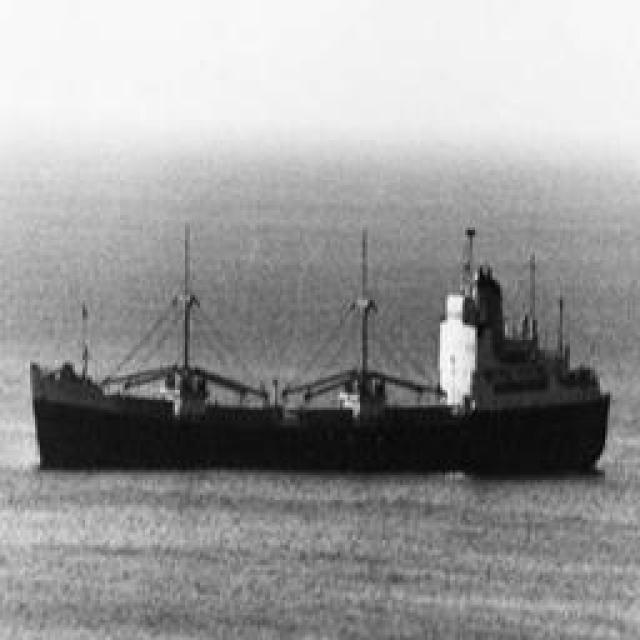Ship: (27, 229, 610, 464)
